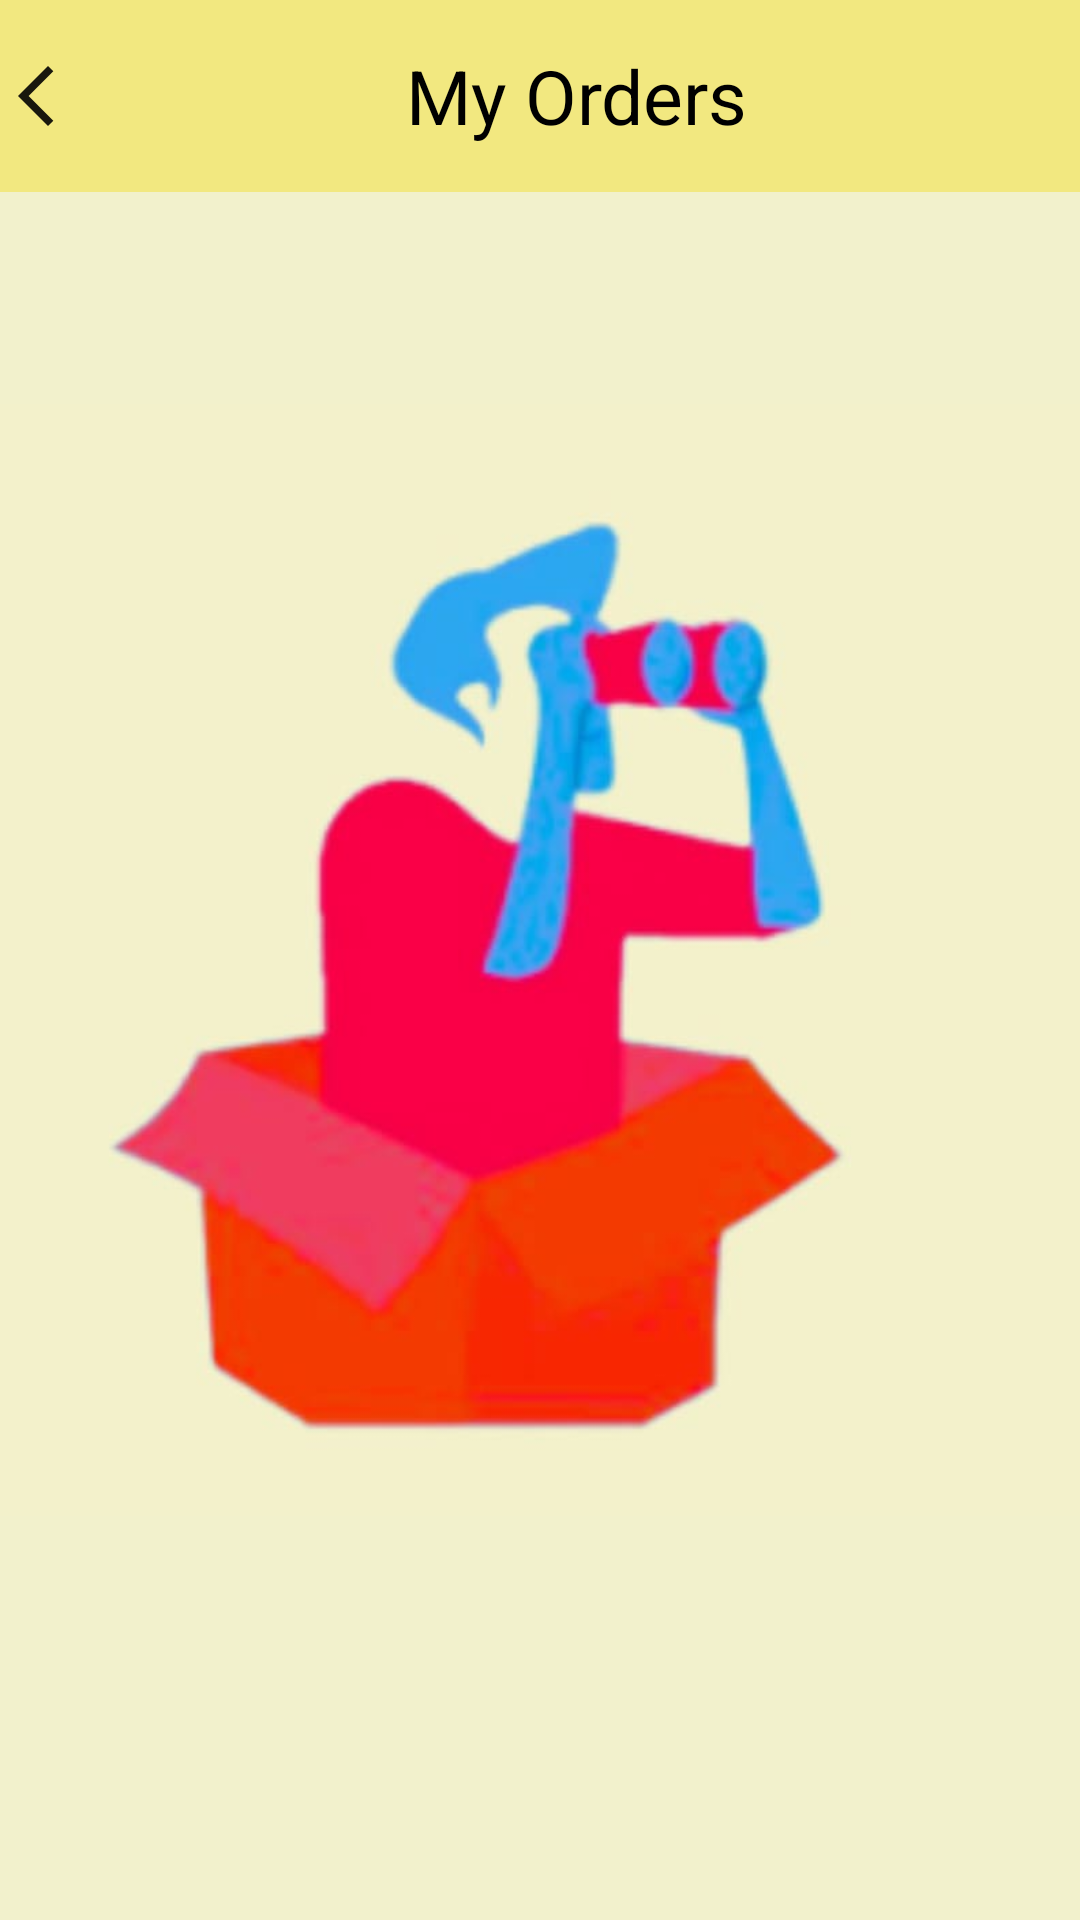

Icon click points for this 1080x1920 phone screenshot, format point (x, y):
back: point (35, 96)
